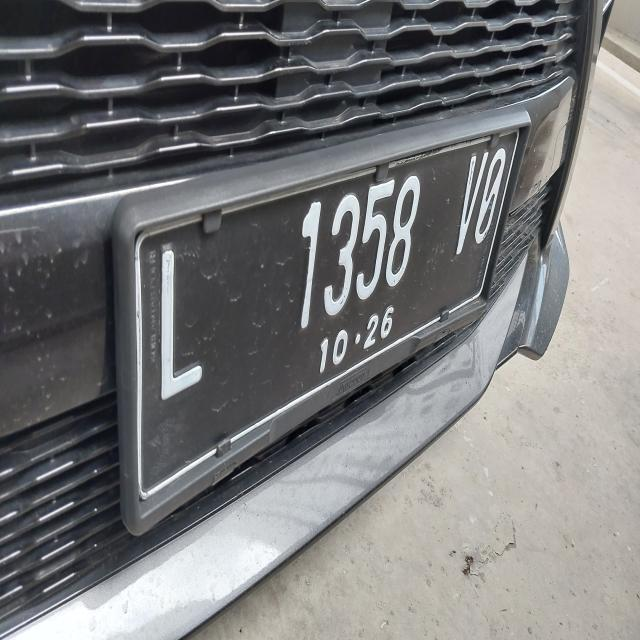1: (281, 195, 330, 338)
3: (320, 189, 362, 325)
5: (355, 171, 395, 311)
8: (386, 166, 428, 308)
L: (150, 217, 220, 419)
O: (476, 132, 506, 263)
V: (455, 134, 484, 280)
